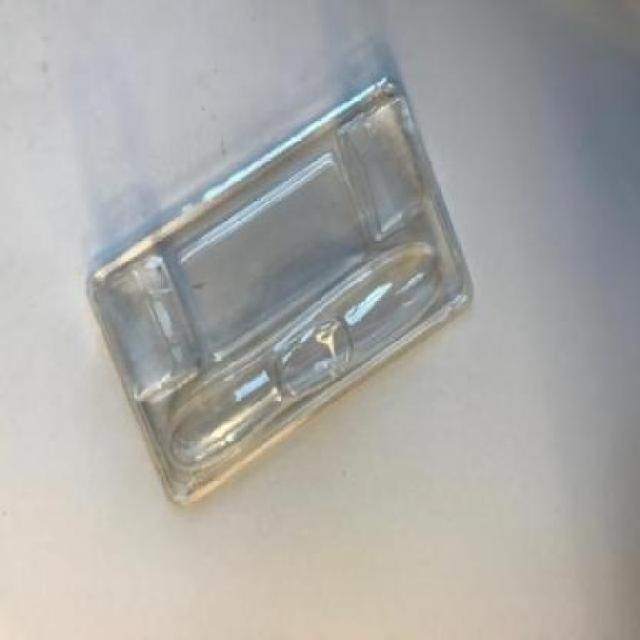nhua: (89, 76, 472, 504)
